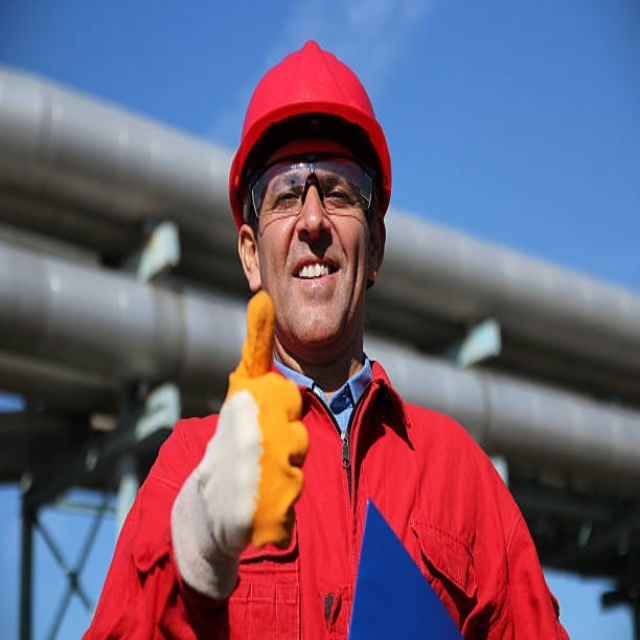Gafas: (245, 155, 379, 230)
Guantes: (174, 289, 310, 591)
Sin_mascara: (278, 245, 345, 326)
